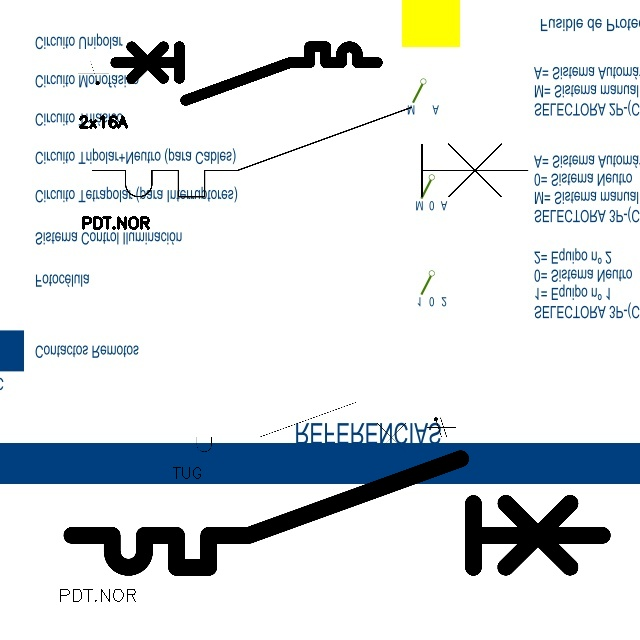interruptor_termomagnetico: (58, 445, 615, 581), (81, 96, 539, 208), (109, 40, 384, 107), (172, 396, 427, 458)
